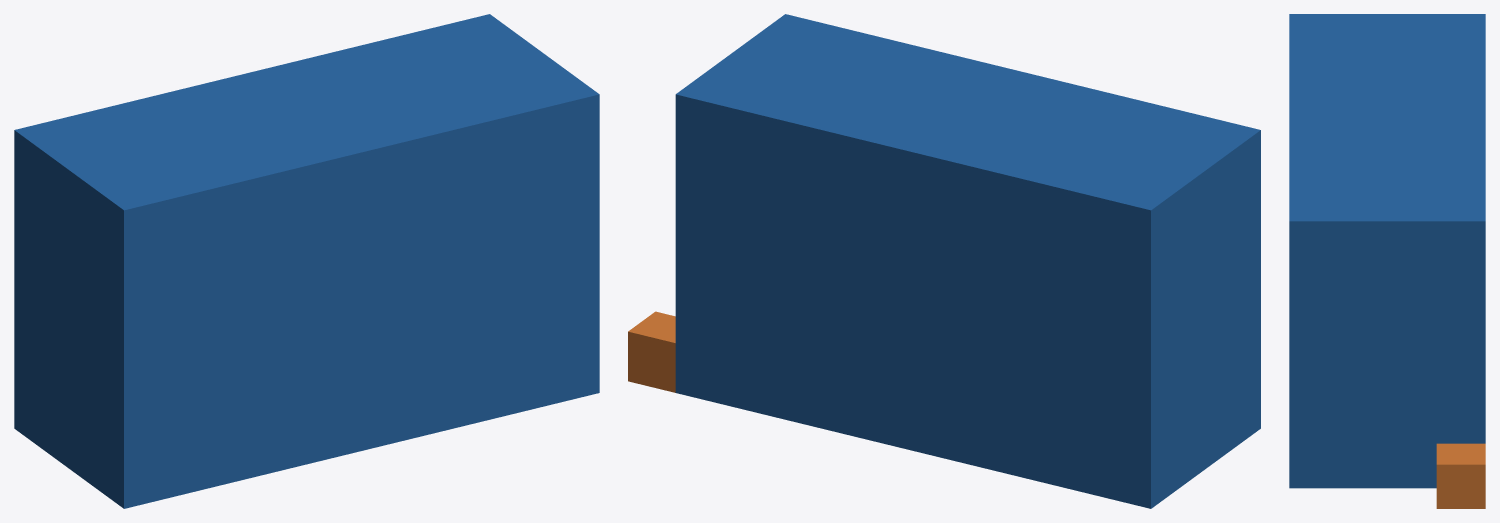
File: gauge.glb
3 views of the same model, side by side, from view 1: azimuth 30°, elevation 25°; view 2: azimuth 150°, elevation 25°; view 3: azimuth 270°, elevation 25° (orthographic). The views are drawn at different scales.
Parts seen in each view (by area): view 1: part_part_438aa23ae0465ca733afad2d; view 2: part_part_438aa23ae0465ca733afad2d, part_part_5a04eab6f831cd726585c82e; view 3: part_part_438aa23ae0465ca733afad2d, part_part_5a04eab6f831cd726585c82e.
Boxes of the visible parts, x1=… form: part_part_438aa23ae0465ca733afad2d: x1=14, y1=14, x2=599, y2=508; part_part_438aa23ae0465ca733afad2d: x1=675, y1=14, x2=1260, y2=508; part_part_5a04eab6f831cd726585c82e: x1=628, y1=311, x2=675, y2=392; part_part_438aa23ae0465ca733afad2d: x1=1289, y1=14, x2=1485, y2=488; part_part_5a04eab6f831cd726585c82e: x1=1436, y1=443, x2=1485, y2=508.
Bounding box in the file's own units: 0.11 × 0.06 × 0.04.
